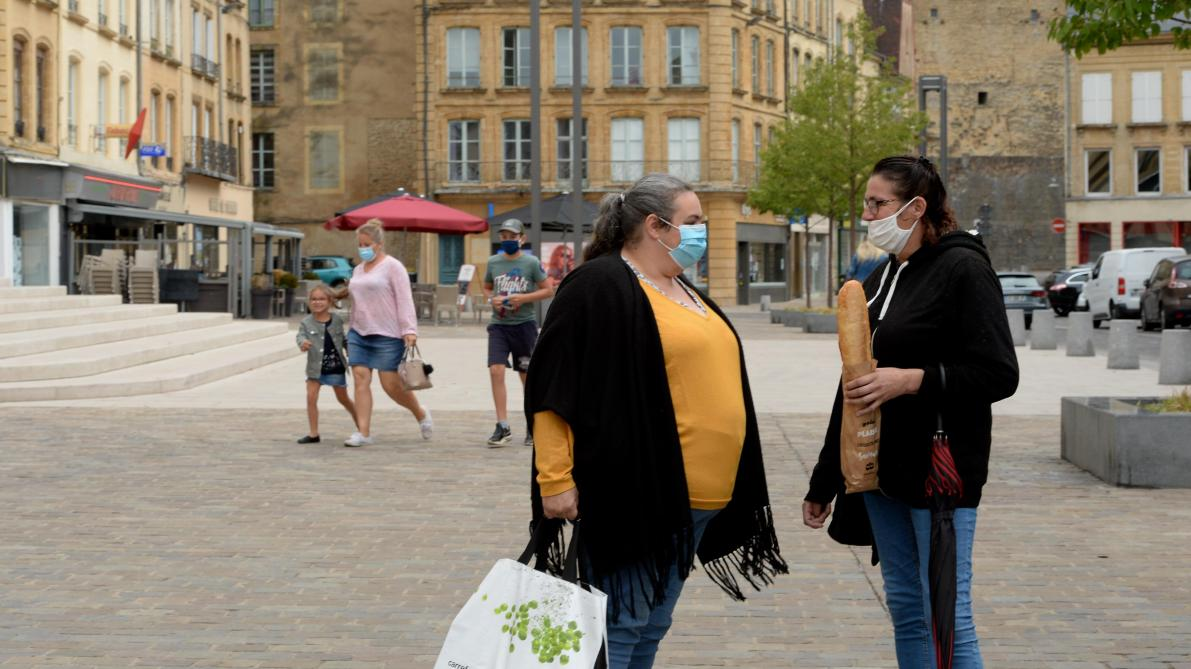with_incorrect_mask: (860, 190, 918, 245)
with_mask: (661, 195, 706, 270), (356, 232, 378, 263), (502, 228, 525, 252)
without_mask: (313, 293, 331, 314)
